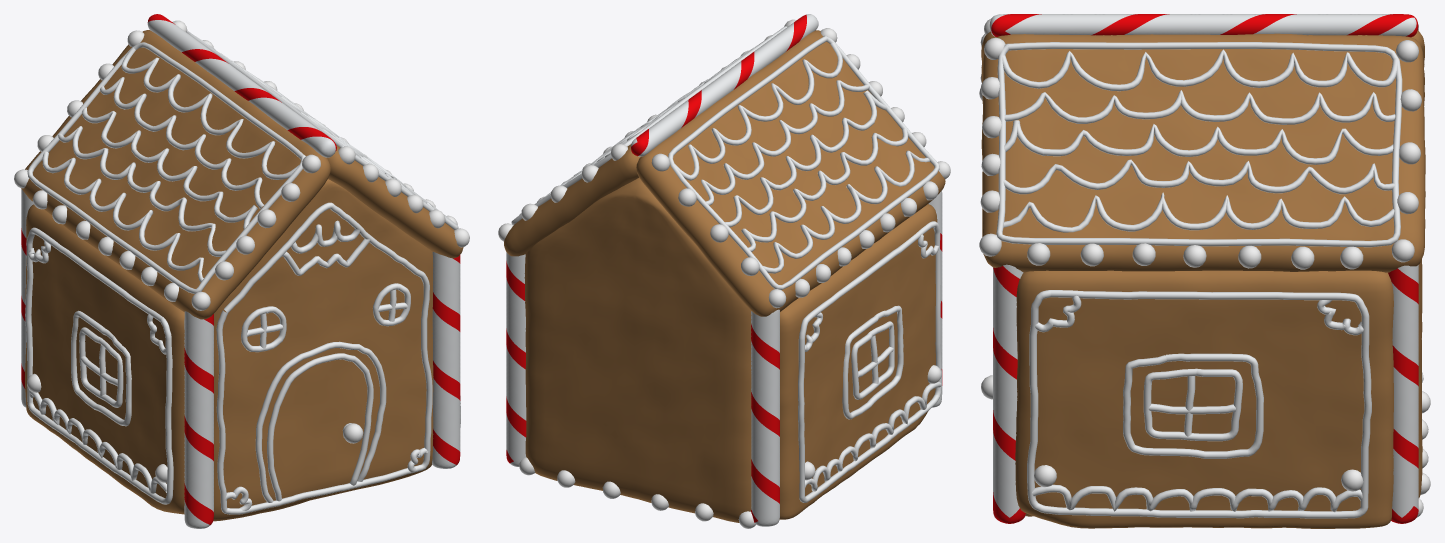
The model's file is GingerbreadHouse1.fbx.
3 views of the same model, side by side, from view 1: azimuth 30°, elevation 25°; view 2: azimuth 150°, elevation 25°; view 3: azimuth 270°, elevation 25° (orthographic). The views are drawn at different scales.
Parts seen in each view (by area): view 1: Cube.002, Cube.001, Cube.003, Simple_GPencil, GPencil, GPencil.001, Cylinder.002, Cylinder.001, Cylinder, Cylinder.004, Roundcube.005, Roundcube (+4 smaller); view 2: Cube.004, Cube.001, Cube.003, Simple_GPencil, GPencil.001, Cylinder.004, Cylinder, Cylinder.003, Cylinder.002, Roundcube.019; view 3: Cube.003, Cube.001, Simple_GPencil, GPencil.001, Cylinder, Cylinder.003, Cylinder.001, Cube.004.
Part boxes in pixels (x1,y1,x2,y2): Cube.002: [213, 179, 433, 521]; Cube.001: [21, 30, 463, 319]; Cube.003: [25, 204, 184, 514]; Simple_GPencil: [27, 31, 458, 293]; GPencil: [216, 202, 432, 514]; GPencil.001: [25, 227, 460, 504]; Cylinder.002: [184, 311, 213, 528]; Cylinder.001: [432, 252, 460, 468]; Cylinder: [147, 14, 336, 157]; Cylinder.004: [21, 189, 33, 407]; Roundcube.005: [191, 228, 469, 310]; Roundcube: [302, 146, 355, 173]; Cube.004: [524, 178, 751, 522]; Cube.001: [504, 30, 945, 316]; Cube.003: [779, 204, 937, 519]; Simple_GPencil: [511, 26, 939, 289]; GPencil.001: [798, 221, 941, 502]; Cylinder.004: [751, 309, 779, 526]; Cylinder: [631, 14, 818, 156]; Cylinder.003: [506, 252, 526, 466]; Cylinder.002: [928, 190, 942, 407]; Roundcube.019: [557, 470, 713, 521]; Cube.003: [1015, 270, 1393, 528]; Cube.001: [981, 30, 1425, 272]; Simple_GPencil: [996, 42, 1402, 247]; GPencil.001: [1027, 290, 1371, 518]; Cylinder: [989, 14, 1418, 37]; Cylinder.003: [1388, 265, 1418, 523]; Cylinder.001: [993, 264, 1025, 523]; Cube.004: [1418, 259, 1422, 497].
Size of the model in its own units: 221 by 255 by 236.
